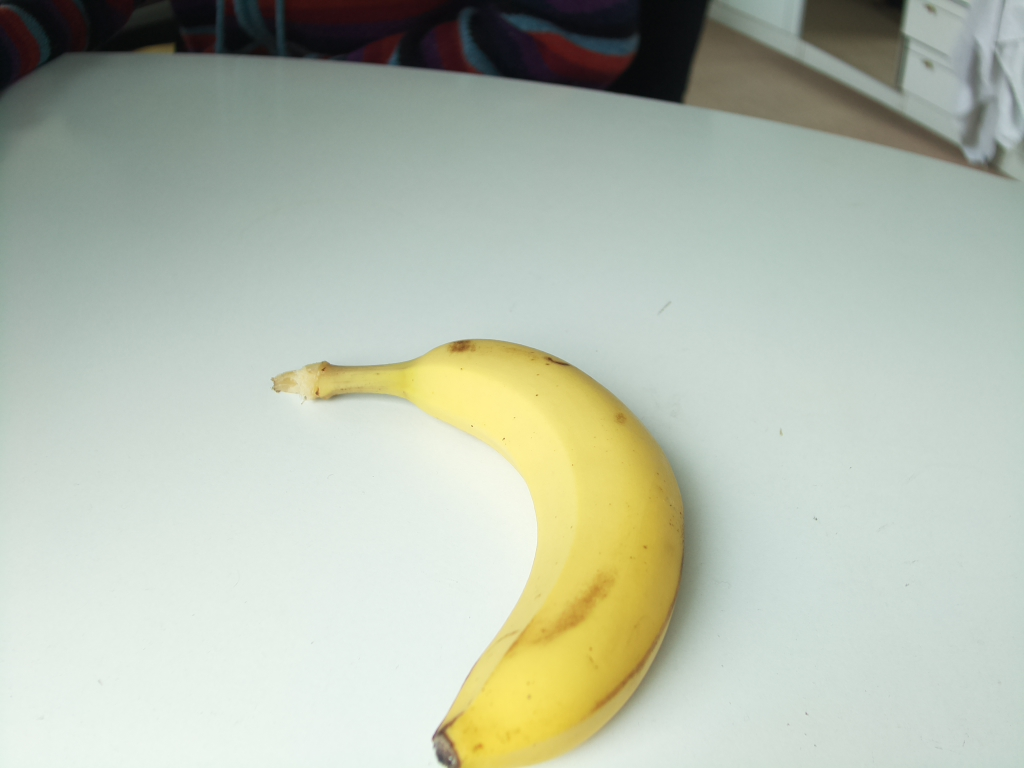banana: (270, 338, 691, 766)
